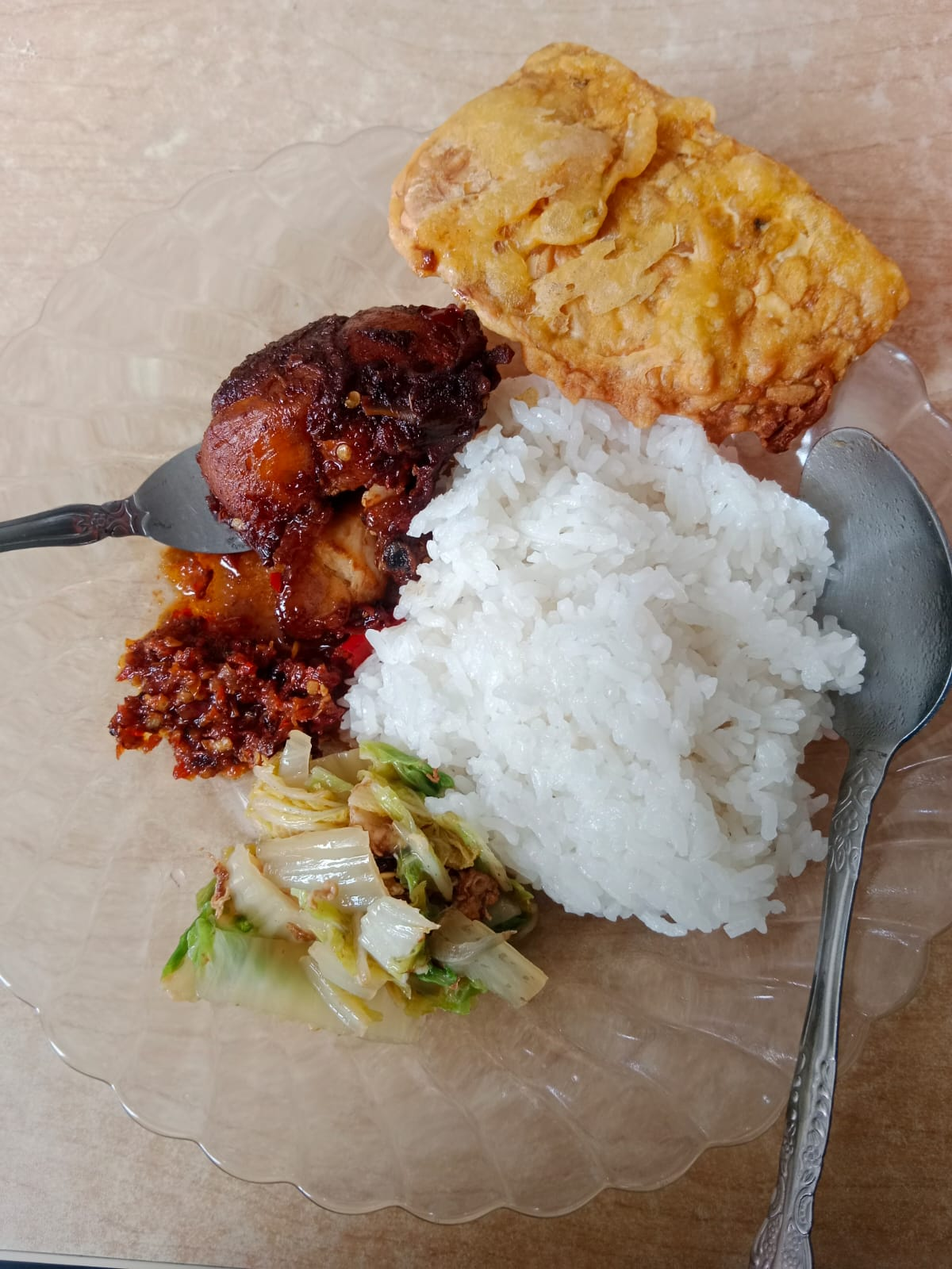buah_sayur_lainnya: (181, 741, 509, 1074)
daging: (129, 289, 444, 533)
kacang_legume: (471, 95, 838, 409)
makanan_berpati: (441, 447, 793, 893)
